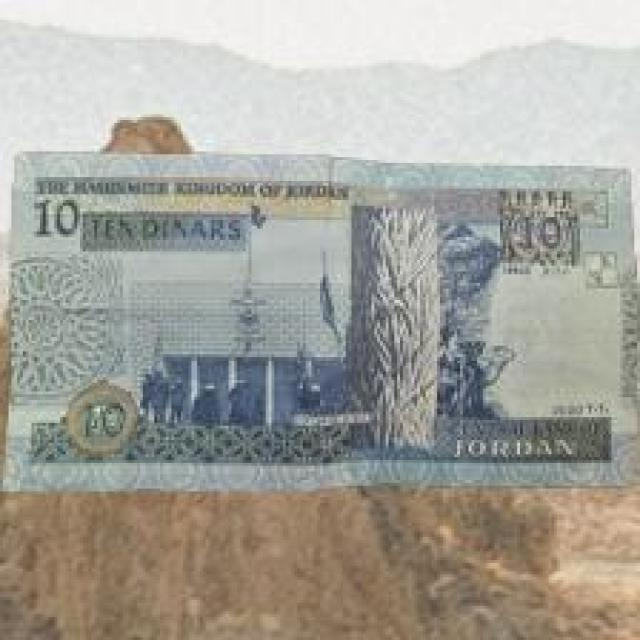10-dinar: (1, 154, 635, 488)
